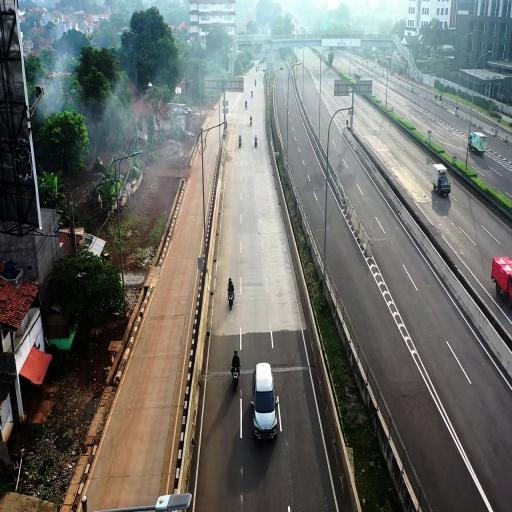vehicle: (252, 362, 280, 440), (434, 170, 450, 197)
